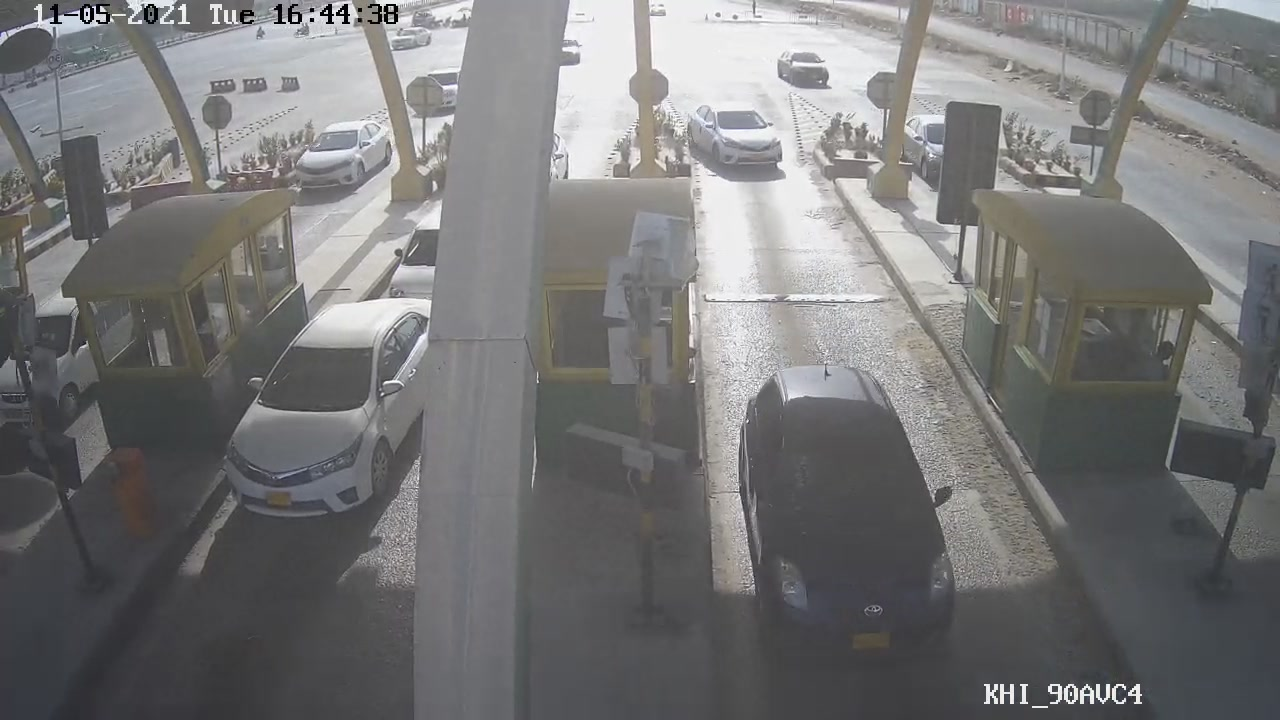F1: (726, 360, 963, 662)
